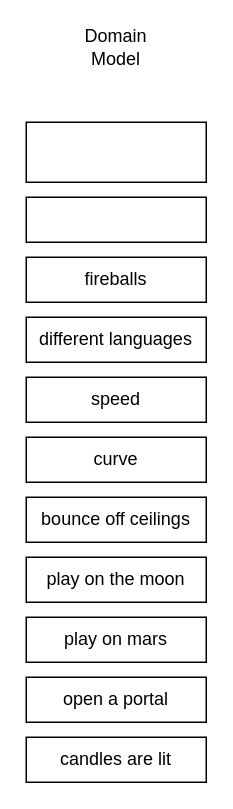
The diagram is 233 pixels wide and 809 high, and some of its shapes have lost their labels. Each missing label, with the centre of its shape:
Credit card: the point at 115,219
Repository: the point at 115,151
